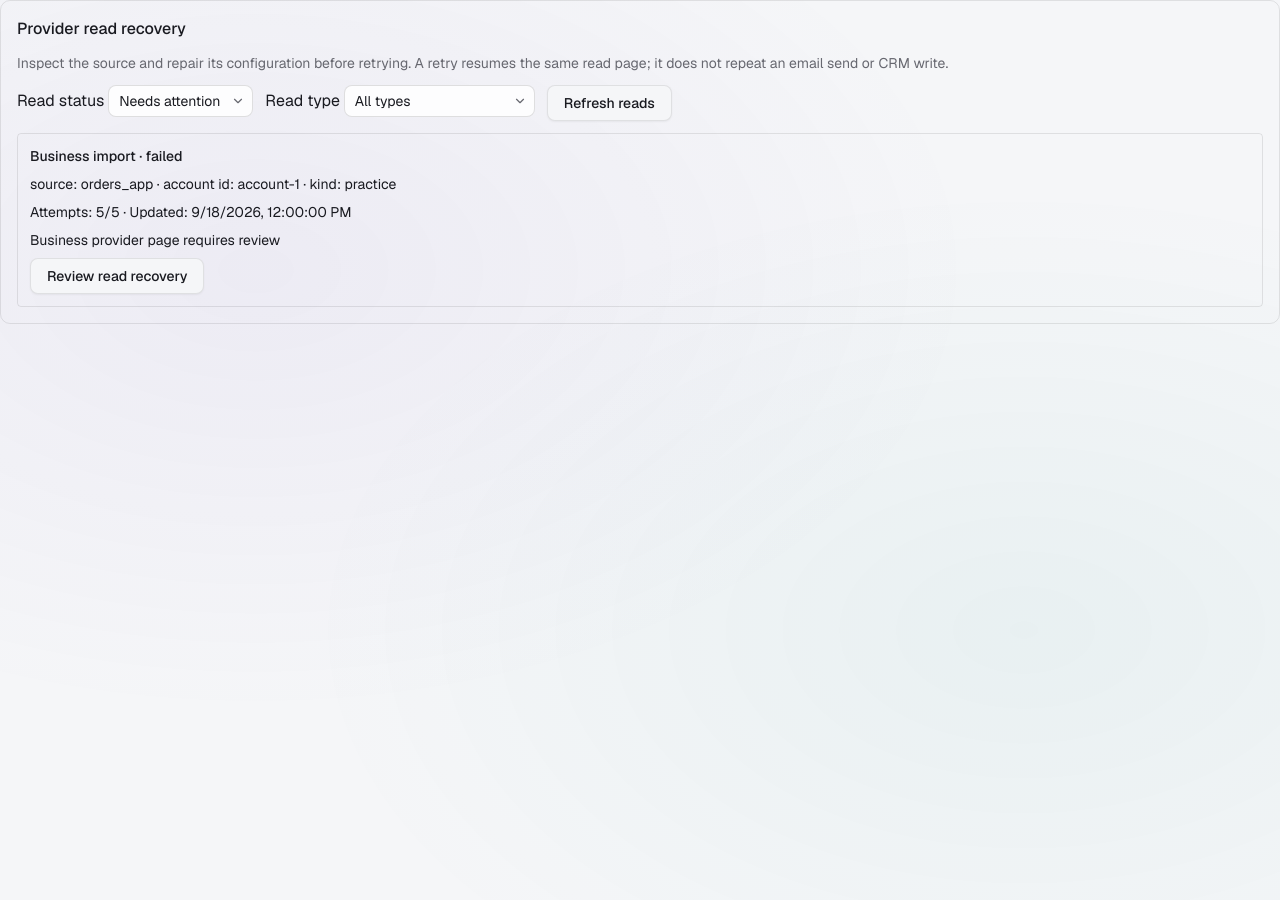
Test: invalidates a retry when the job has already changed
The width and height of the screenshot is (1280, 900).
Click the button "Review read recovery" at [117, 276], box 30,258 -> 204,294
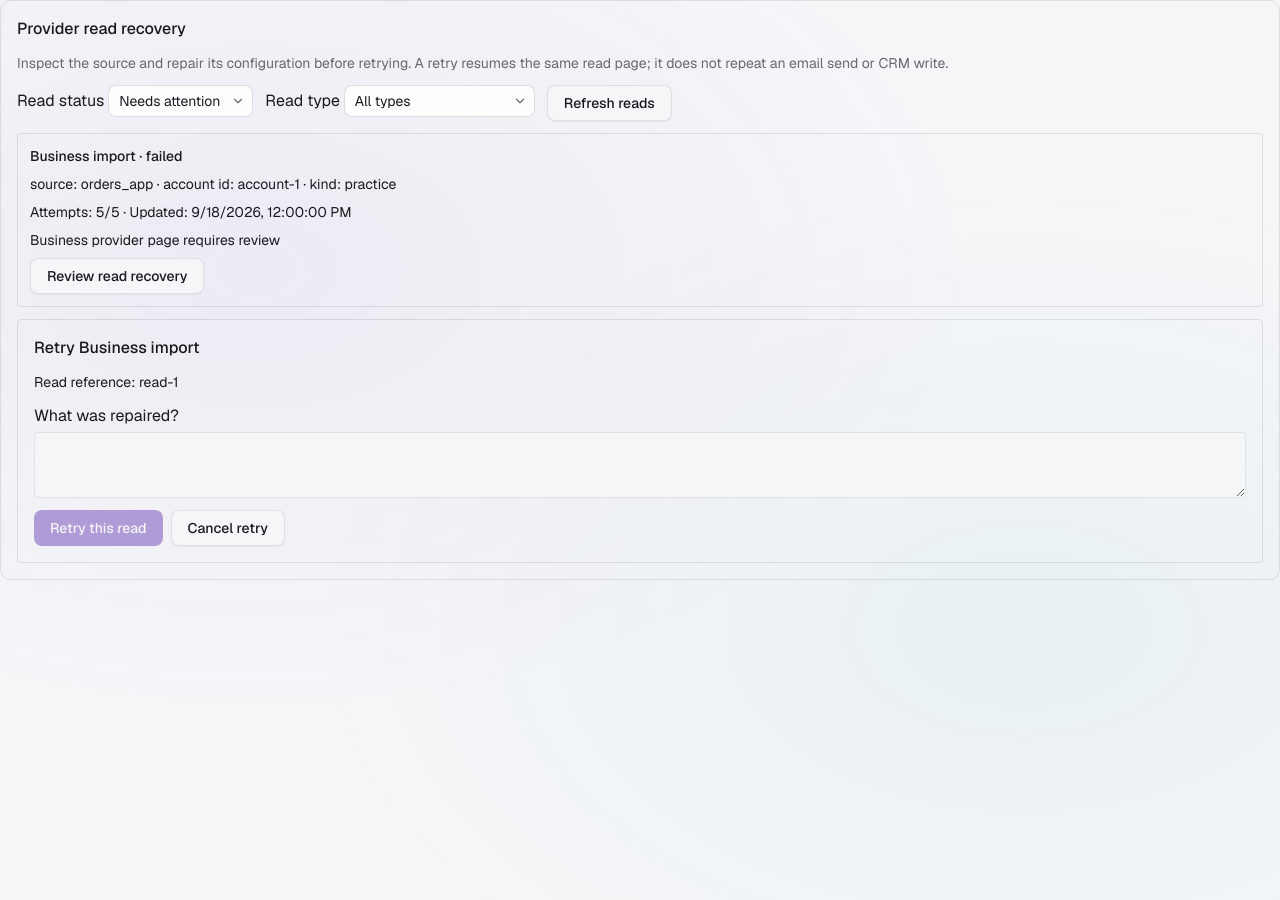
Type "Repaired source account configuration" into the text box labelled "What was repaired?" at [640, 465], box 34,432 -> 1246,498
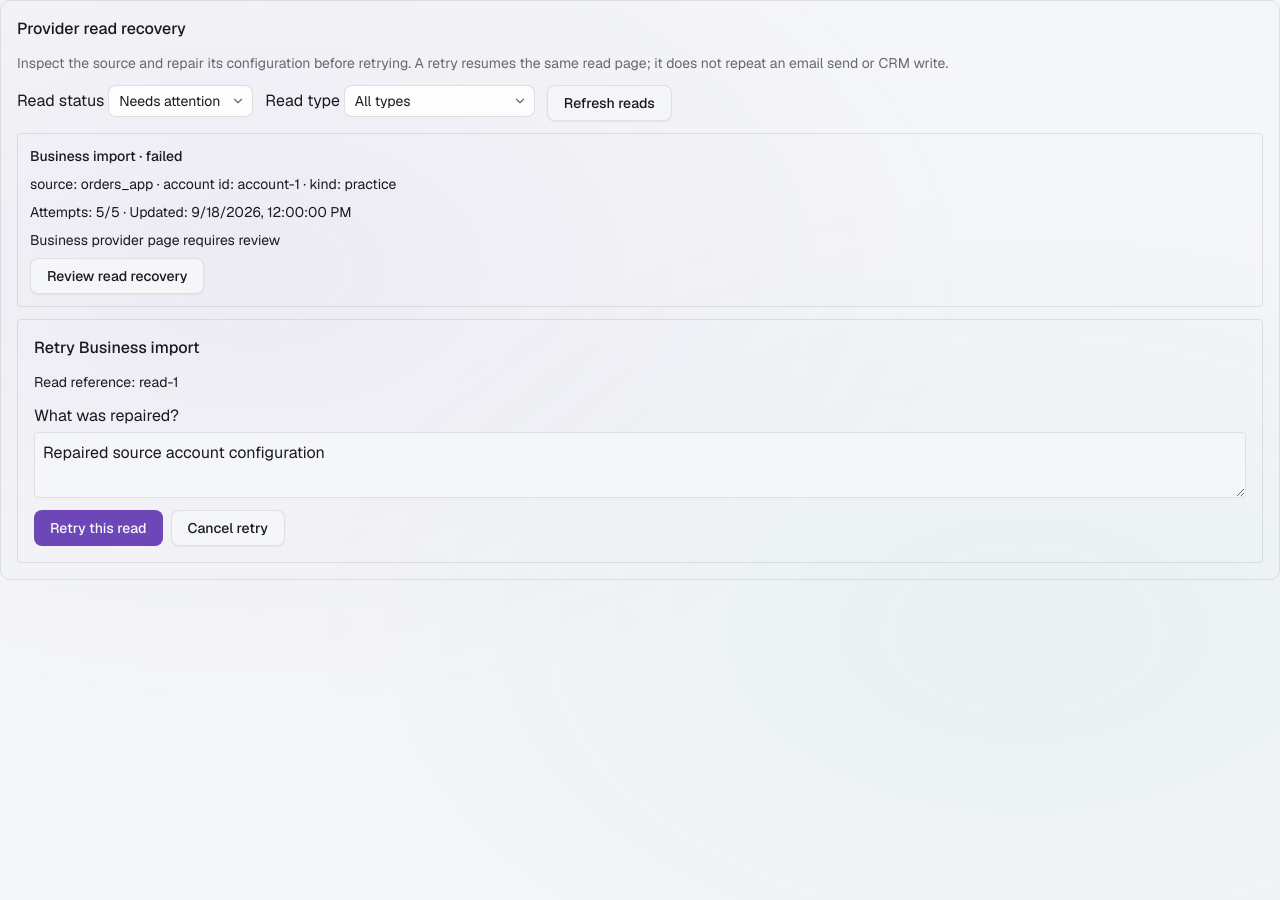
Click the button "Retry this read" at [98, 528], box 34,510 -> 163,546
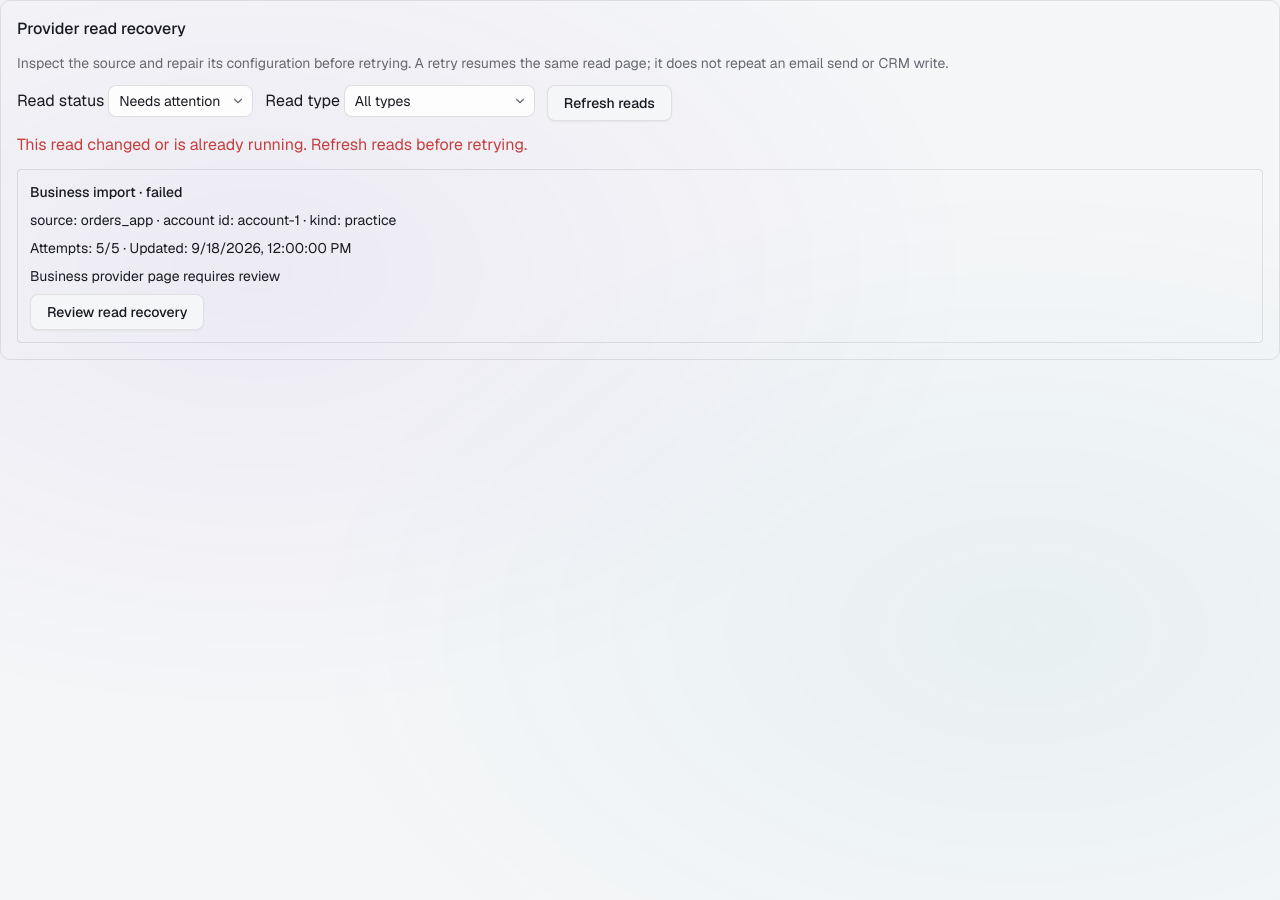
Now the message shows "already running", box 17,134 -> 527,155
Now the button "Retry this read" is gone
